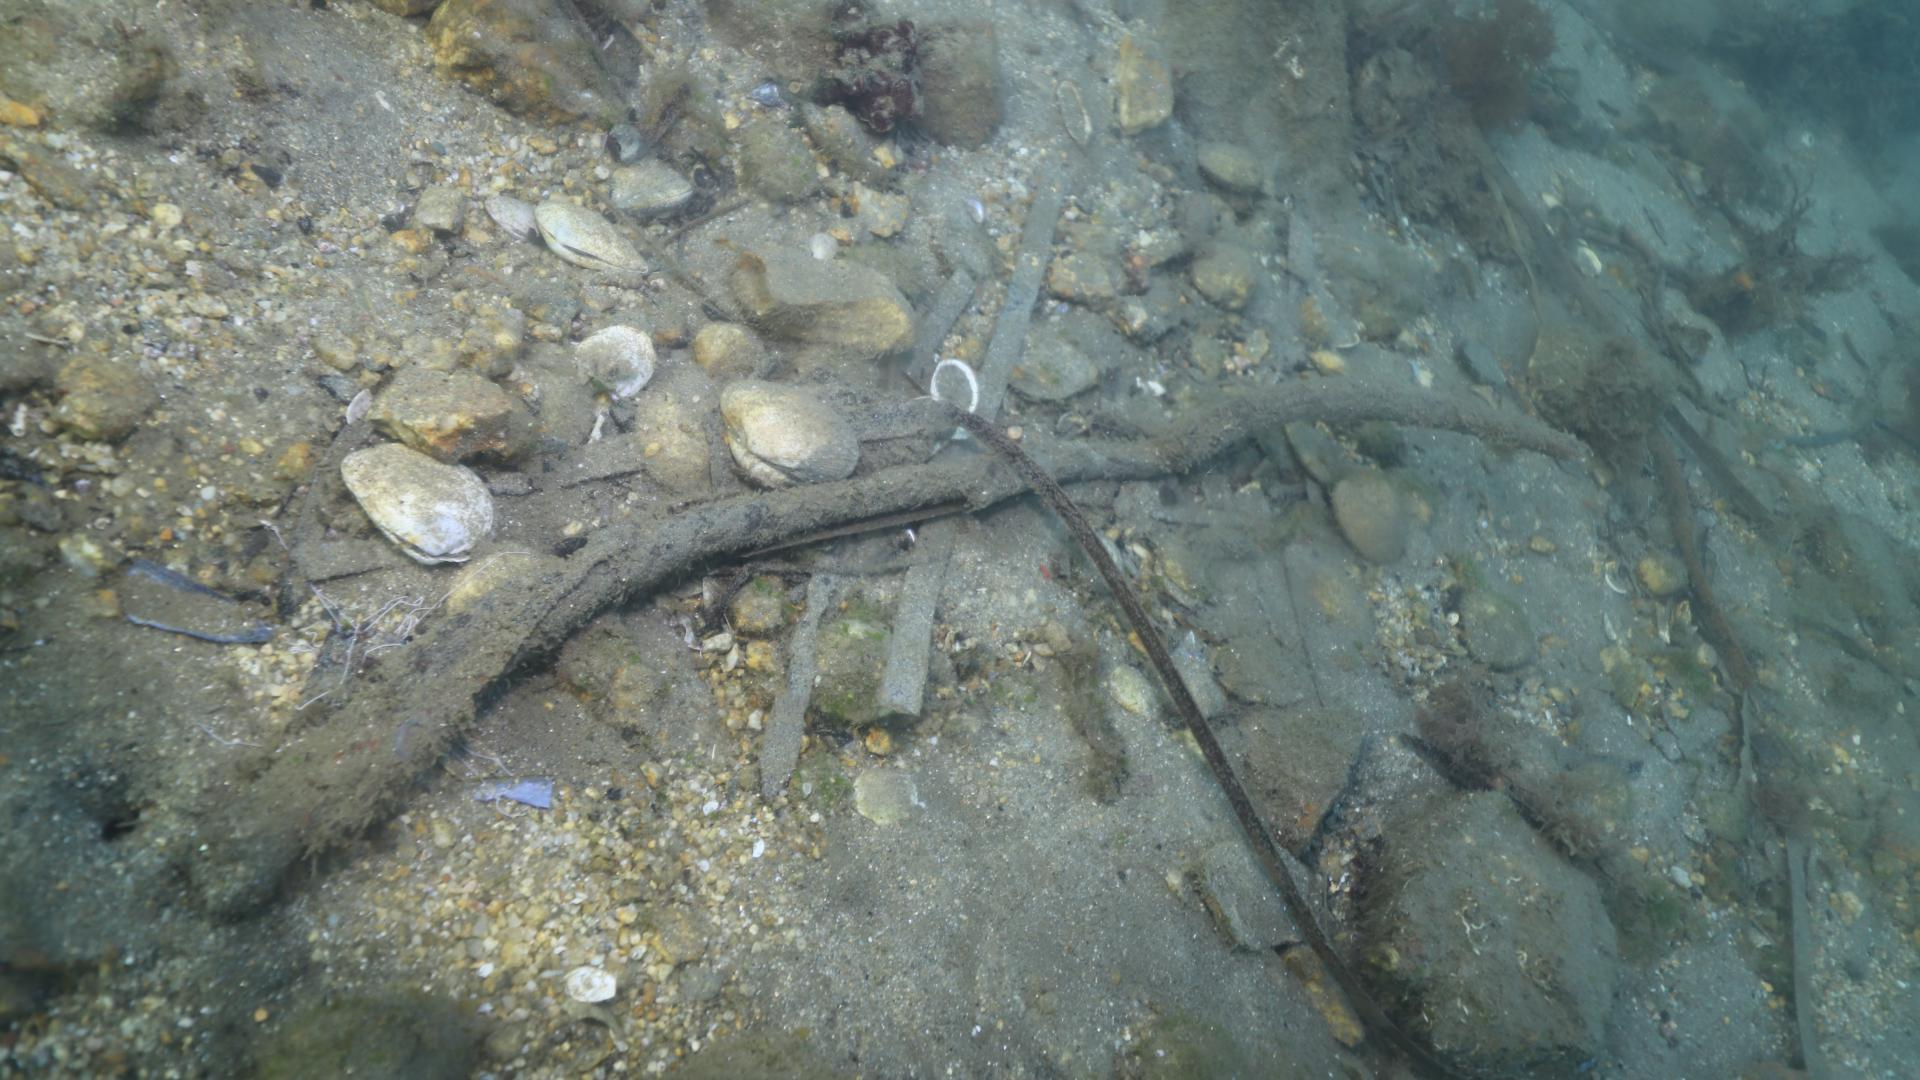wood: (190, 376, 1578, 910)
